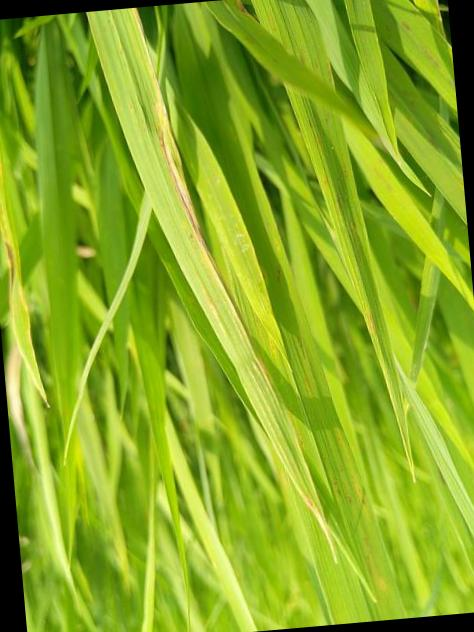Leaf Blight: (110, 8, 320, 518)
